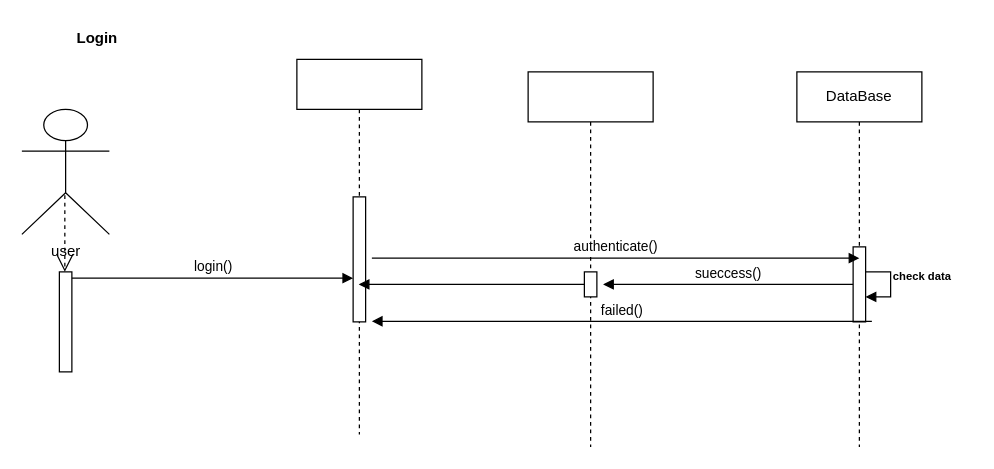
Some shapes in this 994 by 469 pixel diagram are drawn without their labels. Each missing label, with the box of its shape:
authentication: (527, 71, 653, 447)
login interface: (296, 58, 422, 434)
